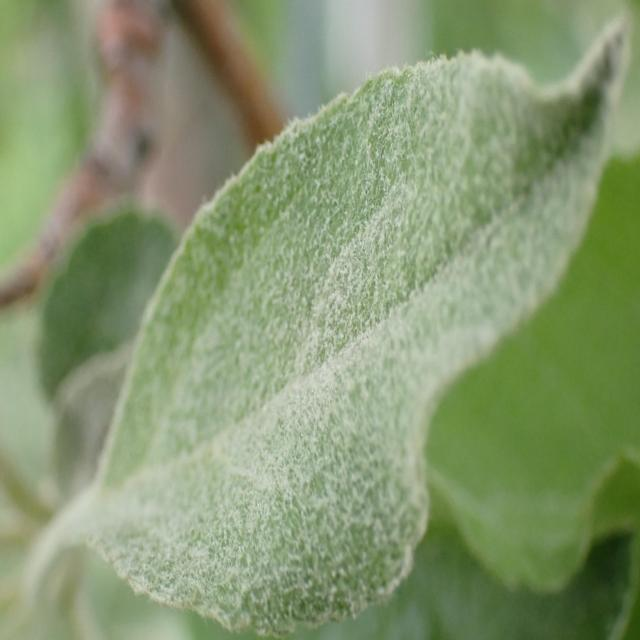Powdery_mildew: (80, 18, 632, 620)
